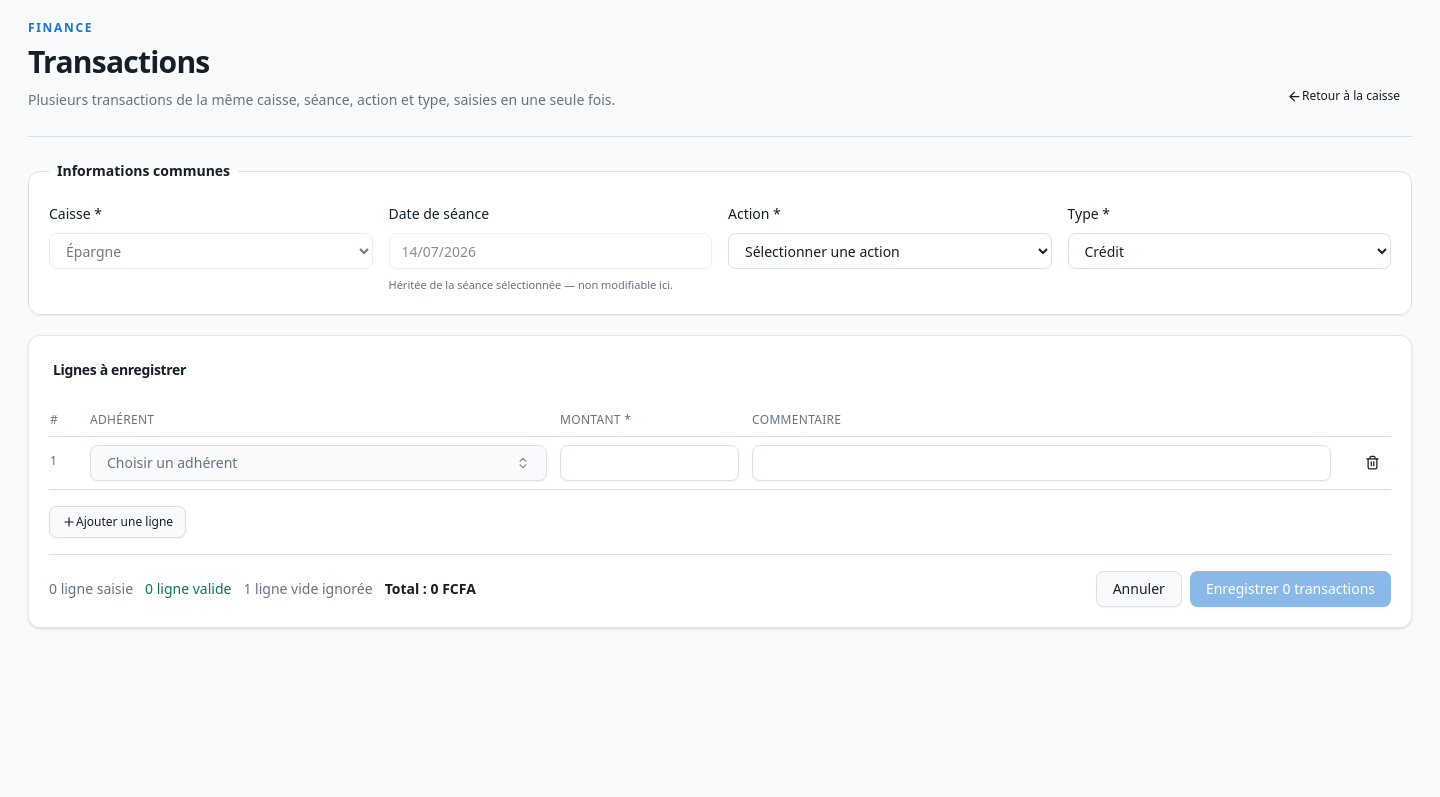
Saisie rapide — prêt financé par plusieurs caisses › aucune combinaison de caisses ne suffit : « il manque encore … », enregistrement impossible
Expected: the heading "Transactions" is shown, [28, 41, 210, 82]
Select "Emprunter" in the dropdown labelled "Action *" at (890, 251), box [728, 233, 1052, 269]
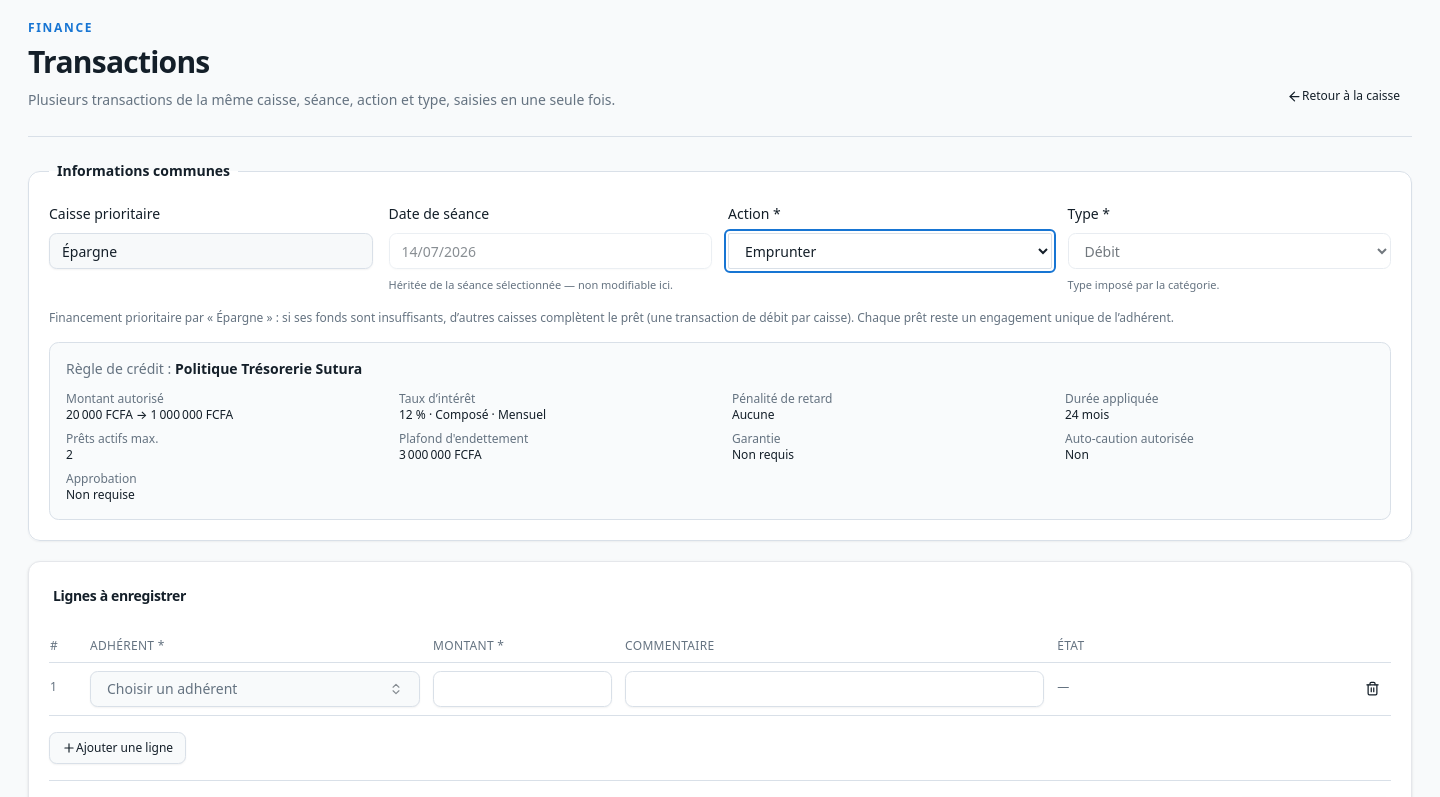
Now the element with test id "quick-entry-loan-rule" is shown, box [49, 342, 1391, 520]
Click the dropdown labelled "Choisir un adhérent" at (172, 688), box [90, 670, 420, 706]
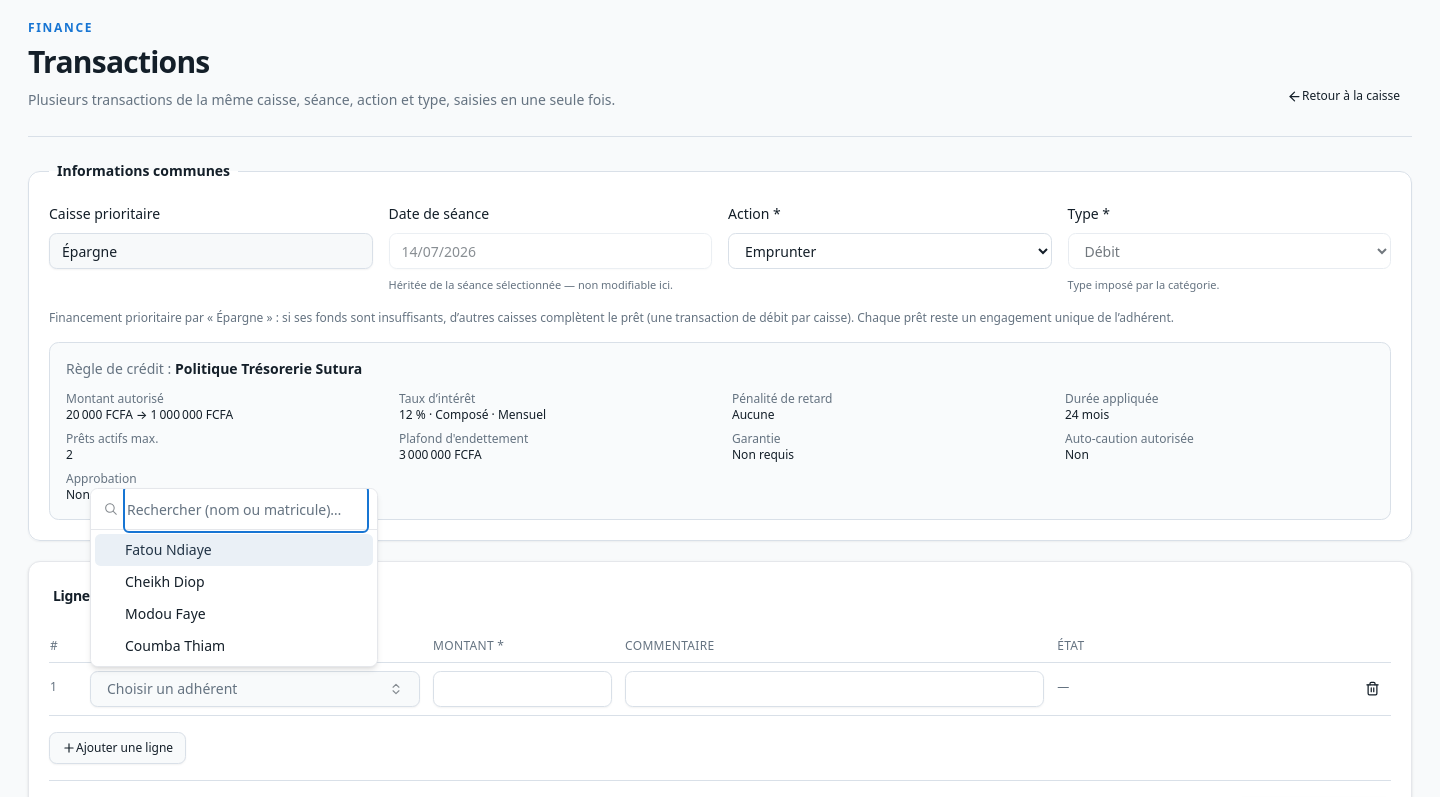
Type "Modou" into the dropdown with placeholder "Rechercher (nom ou matricule)…" at (246, 509), box [127, 489, 365, 529]
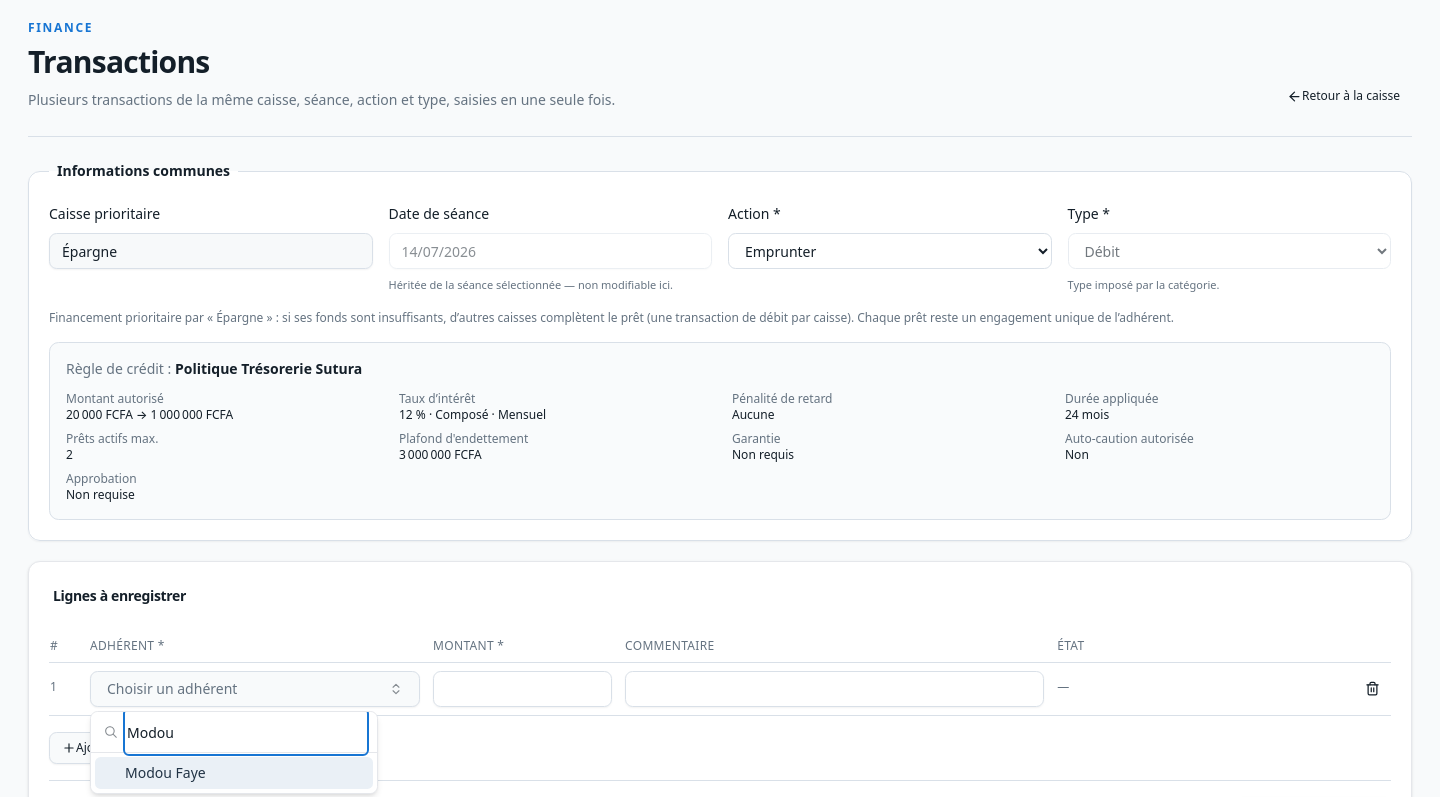
Click the option "Modou Faye" at (165, 772), box [95, 757, 373, 789]
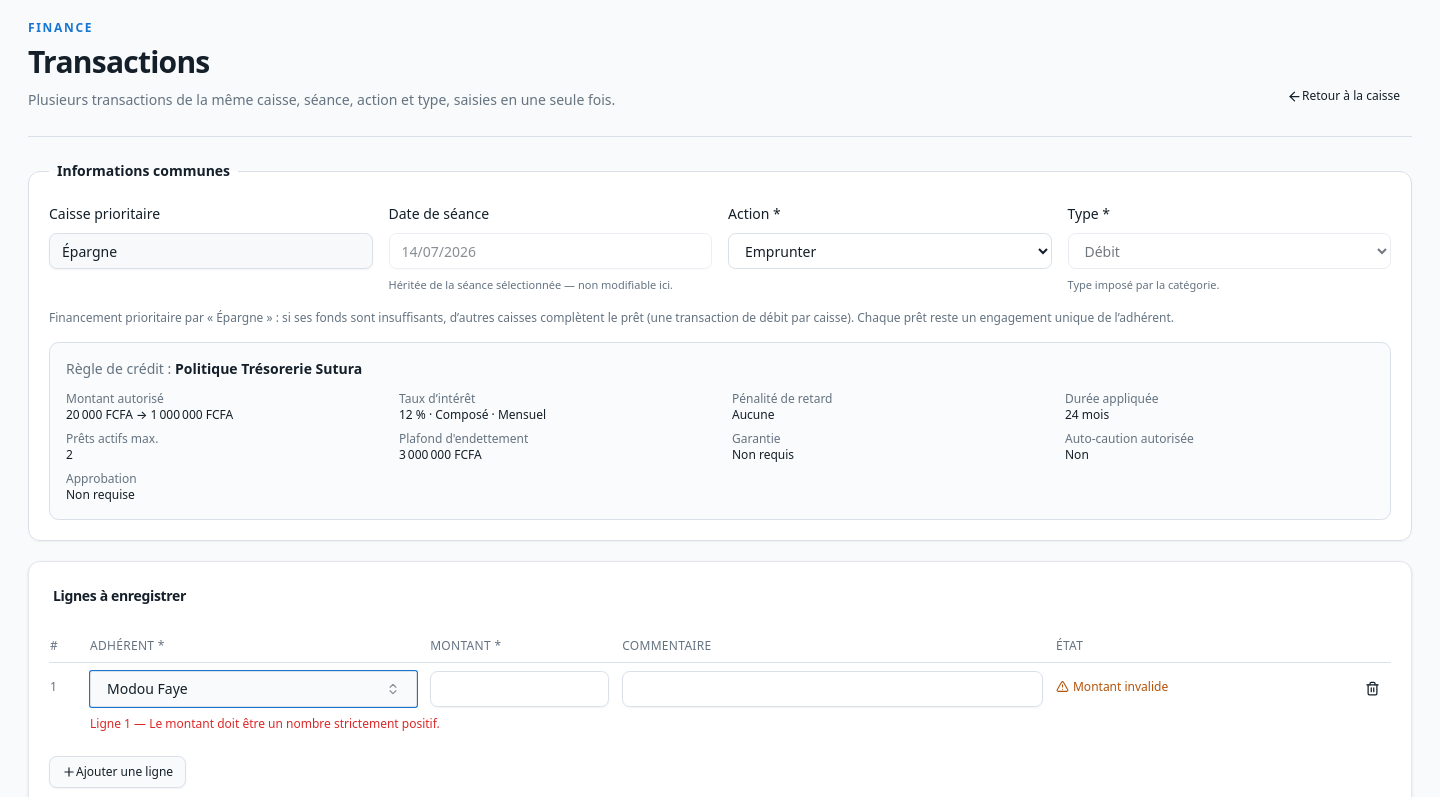
Type "150000" into the field named "Montant de la ligne 1" at (520, 688), box [430, 670, 609, 706]
(page scrolled)
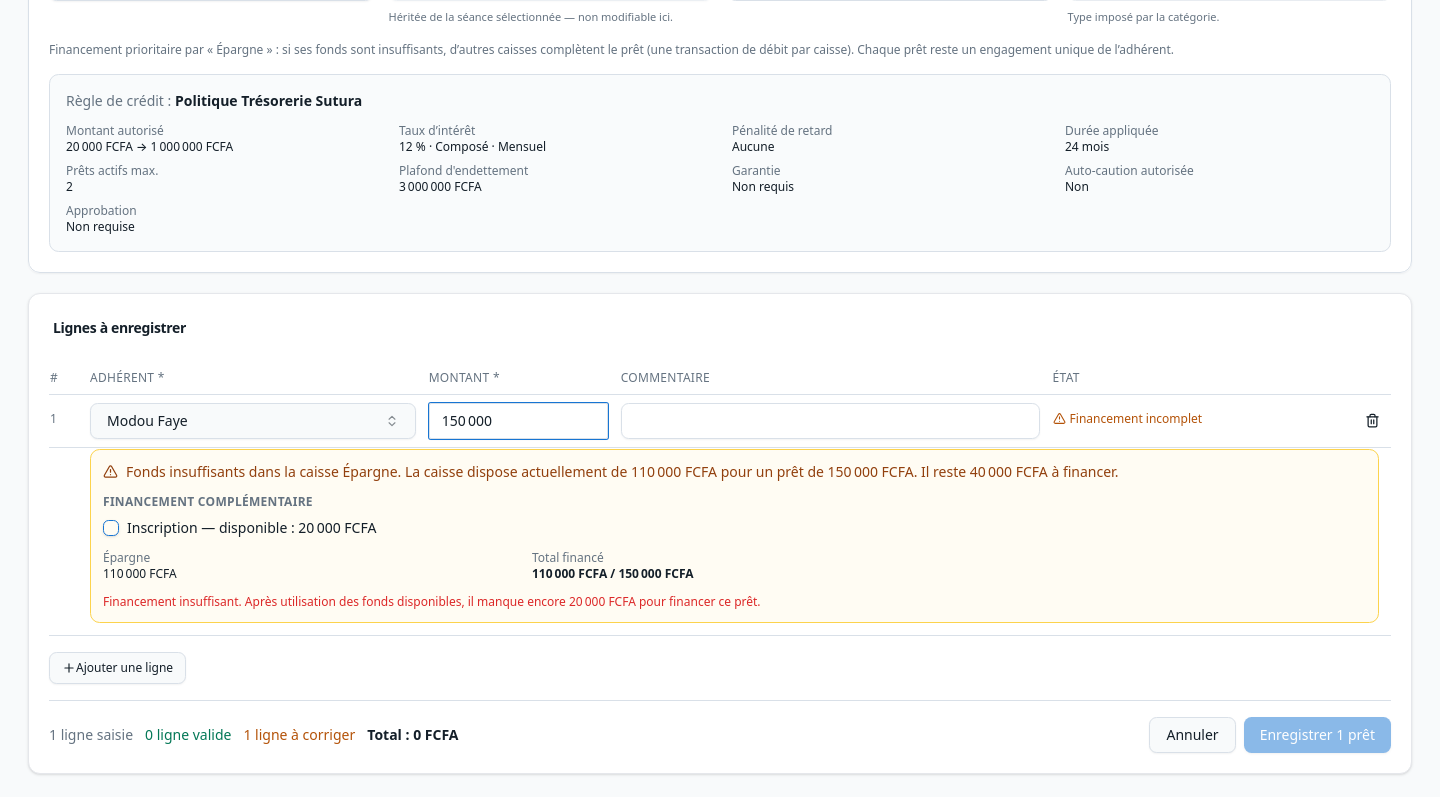
Expected: the button "Enregistrer 1 prêt" is disabled, [1244, 716, 1391, 752]
Now the text with test id "loan-funding-unfundable" shows "Financement insuffisant. Après utilisation des fonds disponibles, il manque encore 20 000 FCFA pour financer ce prêt.", box [103, 592, 761, 610]
